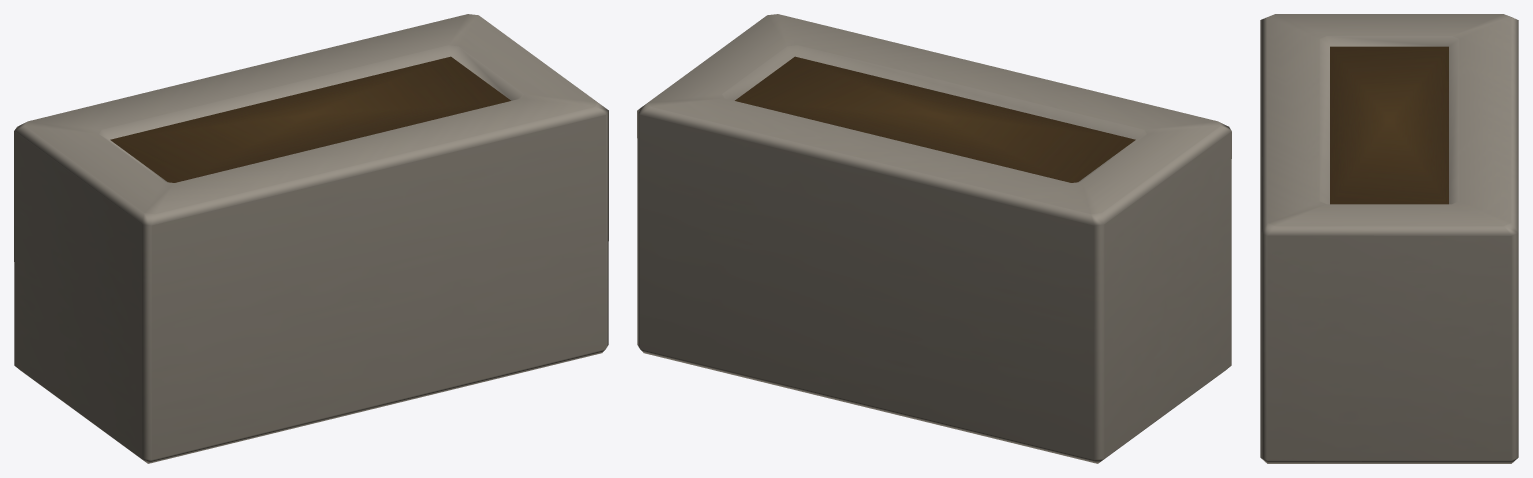
File: plant_box_concrete_2x1x1.fbx
The picture shows the model from 3 angles, left to right: view 1: azimuth 30°, elevation 25°; view 2: azimuth 150°, elevation 25°; view 3: azimuth 270°, elevation 25°; orthographic projection. The views are drawn at different scales.
Visible parts, largest first — view 1: plant_box_concrete_2x1x1; view 2: plant_box_concrete_2x1x1; view 3: plant_box_concrete_2x1x1.
Part boxes in pixels (x1,y1,x2,y2): plant_box_concrete_2x1x1: (14,14,608,463); plant_box_concrete_2x1x1: (637,14,1231,463); plant_box_concrete_2x1x1: (1260,14,1518,463).
Bounding box in the file's own units: 200 × 101 × 100.
